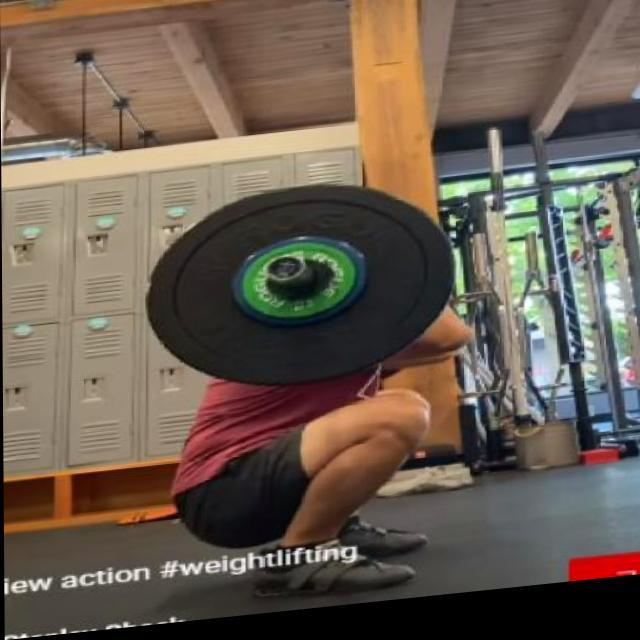barbell: (135, 174, 465, 410)
